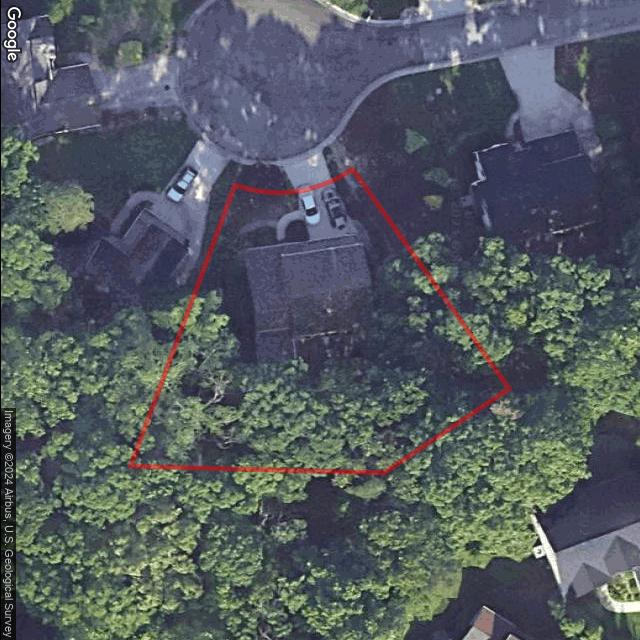Driveway: (295, 180, 357, 242)
Extra-Driveway: (281, 151, 331, 191)
Extra-Lawn: (234, 164, 293, 190), (323, 148, 350, 176)
House: (244, 237, 375, 342)
Lawn: (130, 171, 509, 473)
Sidewalk: (275, 211, 303, 246)
